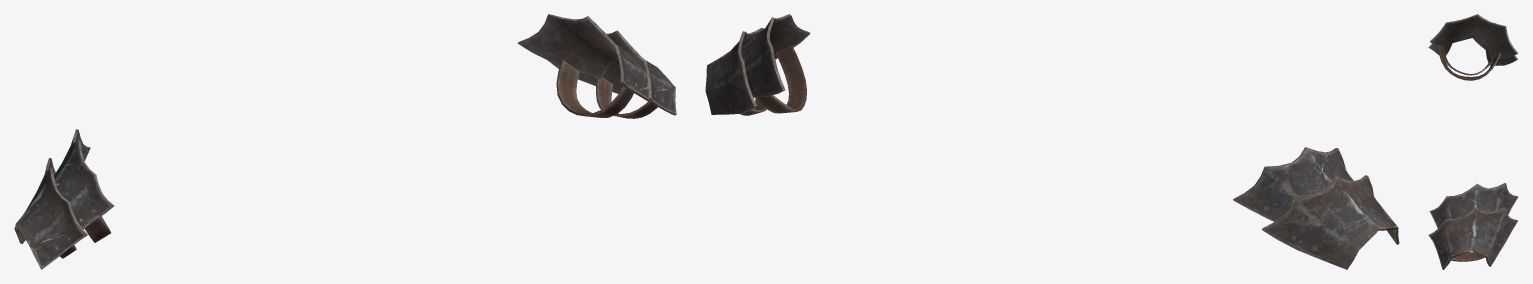
Rendered from sk_dg_uruk_bracer_med_c.fbx.
3 views of the same model, side by side, from view 1: azimuth 30°, elevation 25°; view 2: azimuth 150°, elevation 25°; view 3: azimuth 270°, elevation 25° (orthographic). The views are drawn at different scales.
Visible parts, largest first — view 1: sk_dg_uruk_bracer_med_c; view 2: sk_dg_uruk_bracer_med_c; view 3: sk_dg_uruk_bracer_med_c.
Boxes of the visible parts, x1,y1,x2,y2 form: sk_dg_uruk_bracer_med_c: (14, 14, 676, 269); sk_dg_uruk_bracer_med_c: (705, 14, 1399, 269); sk_dg_uruk_bracer_med_c: (1428, 14, 1518, 269).
Size of the model in its own units: 1.34 by 0.2366 by 0.2009.
1 material, 1 textured.
